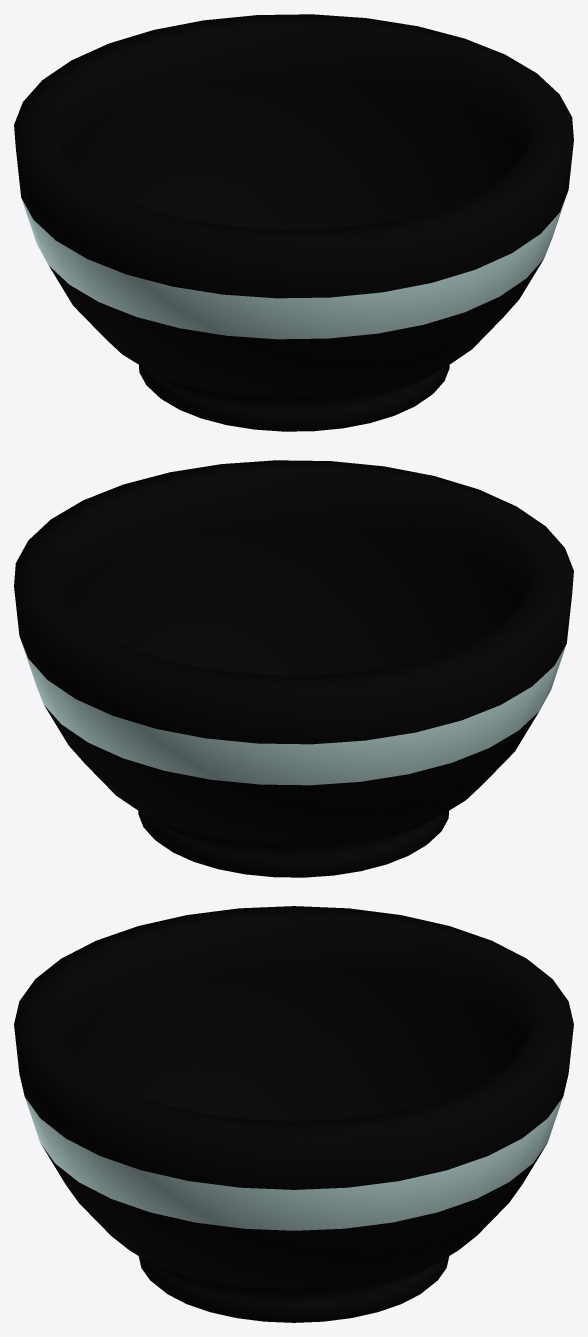
The model's file is Bowl.glb.
3 renders of one model, top to bottom at view 1: azimuth 30°, elevation 25°; view 2: azimuth 150°, elevation 25°; view 3: azimuth 270°, elevation 25°, orthographic.
Visible parts, largest first — view 1: Sphere; view 2: Sphere; view 3: Sphere.
Part boxes in pixels (bbox=[...]): Sphere: bbox=[14, 14, 573, 431]; Sphere: bbox=[14, 460, 573, 877]; Sphere: bbox=[14, 906, 573, 1322].
Size of the model in its own units: 2 by 0.9384 by 2.
